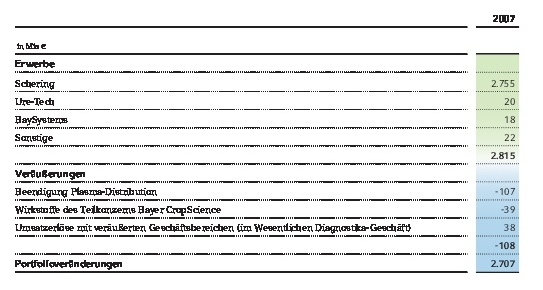table: (0, 0, 543, 290)
